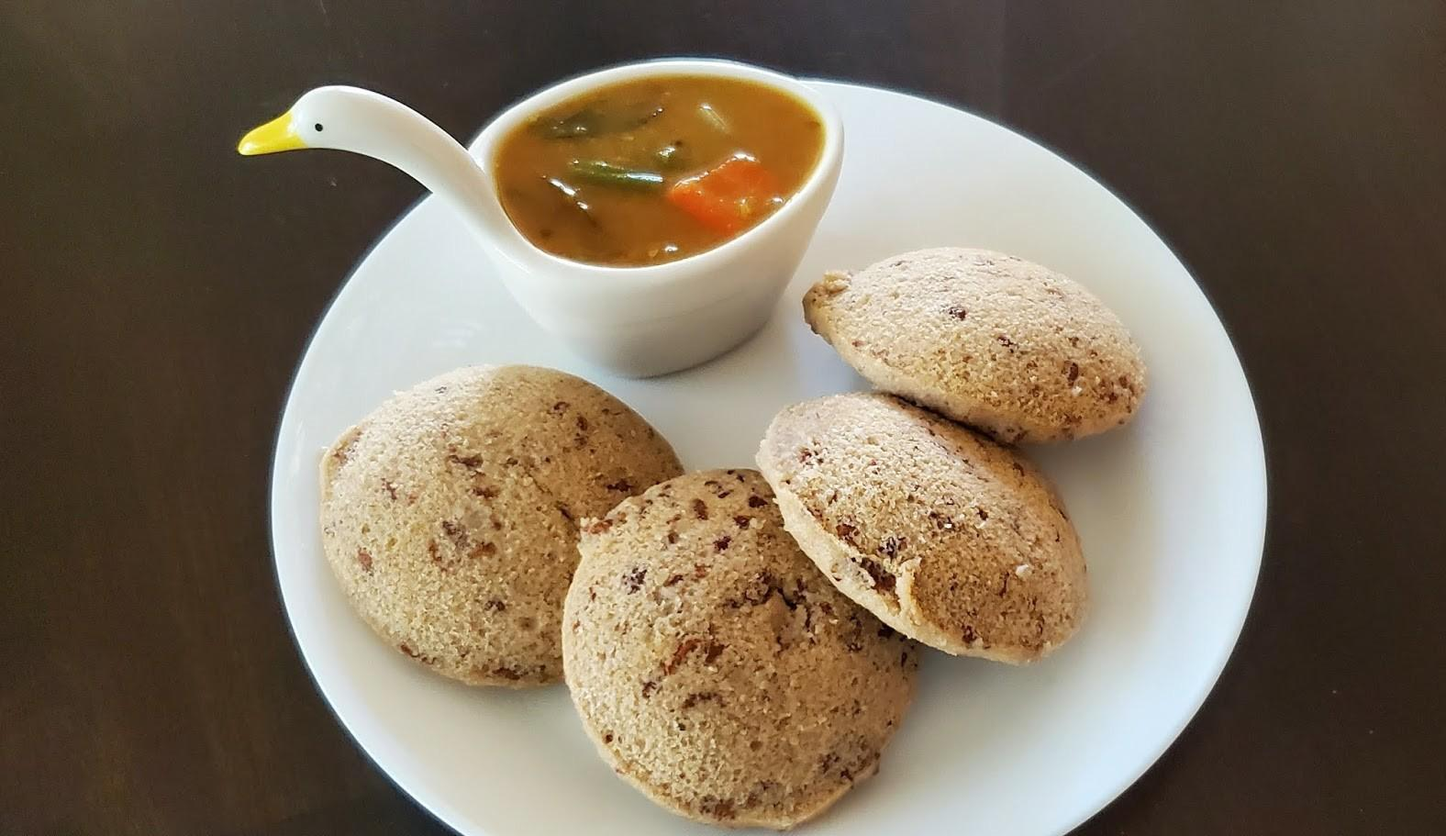Idli: (561, 467, 923, 832), (317, 359, 692, 689), (760, 377, 1097, 664), (805, 242, 1141, 443)
